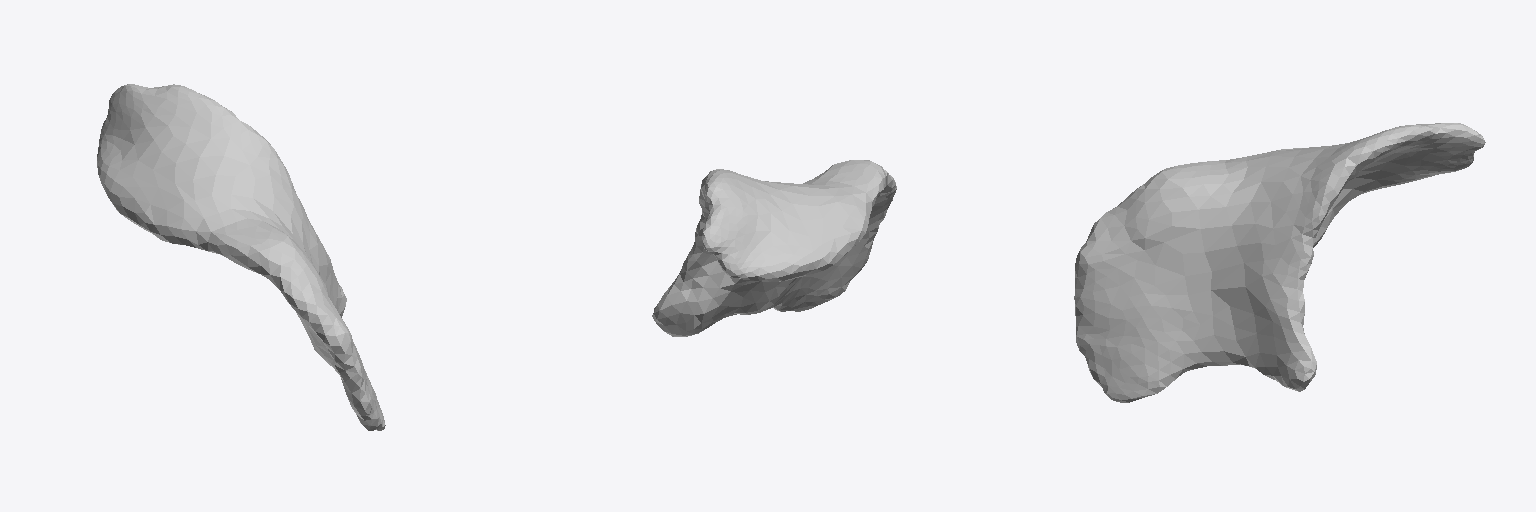
File: right_suprarrenal.obj
The picture shows the model from 3 angles: view 1: azimuth 30°, elevation 25°; view 2: azimuth 150°, elevation 25°; view 3: azimuth 270°, elevation 25°; orthographic projection.
Visible parts, largest first — view 1: right_suprarrenal; view 2: right_suprarrenal; view 3: right_suprarrenal.
Boxes of the visible parts, x1,y1,x2,y2 form: right_suprarrenal: [97, 84, 385, 430]; right_suprarrenal: [652, 160, 896, 336]; right_suprarrenal: [1074, 123, 1485, 402].
Bounding box in the file's own units: 29.16 × 33.88 × 50.8.